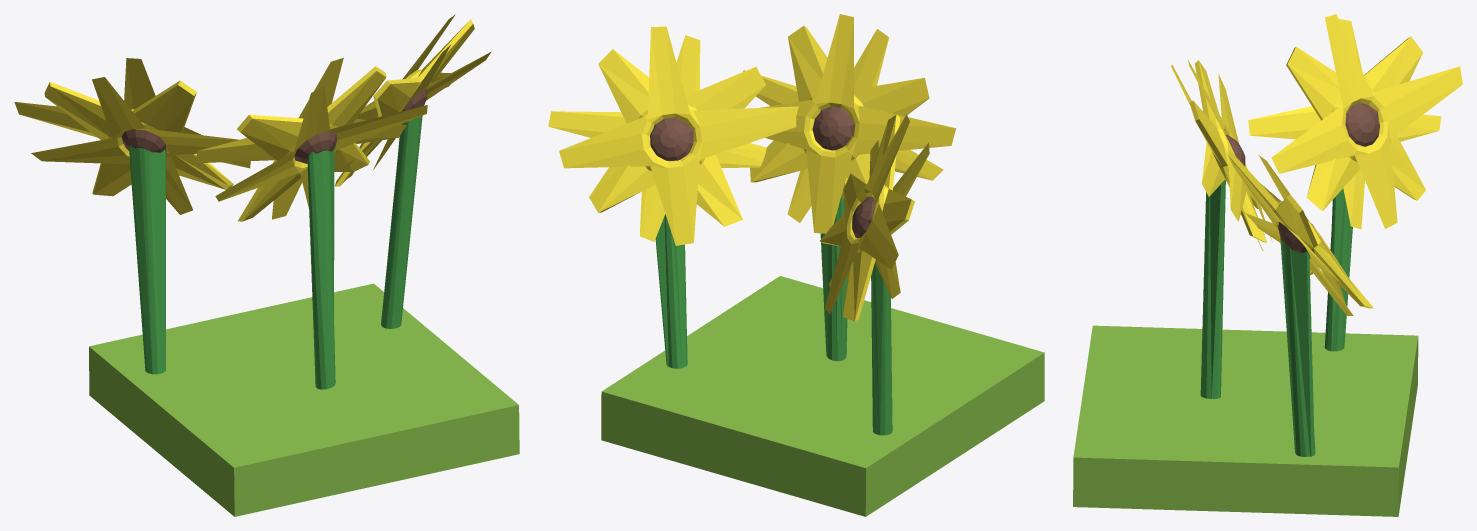
3 views of the same model, side by side, from view 1: azimuth 30°, elevation 25°; view 2: azimuth 150°, elevation 25°; view 3: azimuth 270°, elevation 25° (orthographic).
Parts seen in each view (by area): view 1: mesh_1537693769, mesh_1120229961, mesh_1989264385, mesh_1776900210, mesh_1143046408, mesh_863921316, mesh_2091806476, mesh_1805874679, mesh_1023204255; view 2: mesh_1537693769, mesh_2091806476, mesh_1989264385, mesh_1120229961, mesh_863921316, mesh_1776900210, mesh_1143046408, mesh_420803633, mesh_1023204255, mesh_1805874679; view 3: mesh_1537693769, mesh_1120229961, mesh_863921316, mesh_1989264385, mesh_2091806476, mesh_1143046408, mesh_1776900210, mesh_1805874679.
Boxes of the visible parts, left/top/right/bottom form: mesh_1537693769: left=89, top=283, right=519, bottom=516; mesh_1120229961: left=14, top=58, right=250, bottom=214; mesh_1989264385: left=195, top=57, right=427, bottom=221; mesh_1776900210: left=129, top=145, right=165, bottom=374; mesh_1143046408: left=307, top=148, right=335, bottom=389; mesh_863921316: left=381, top=115, right=422, bottom=328; mesh_2091806476: left=335, top=14, right=491, bottom=186; mesh_1805874679: left=121, top=129, right=166, bottom=152; mesh_1023204255: left=294, top=131, right=337, bottom=163; mesh_1537693769: left=601, top=276, right=1044, bottom=516; mesh_2091806476: left=548, top=26, right=798, bottom=245; mesh_1989264385: left=743, top=14, right=956, bottom=233; mesh_1120229961: left=820, top=114, right=929, bottom=321; mesh_863921316: left=655, top=214, right=687, bottom=368; mesh_1776900210: left=871, top=263, right=892, bottom=435; mesh_1143046408: left=820, top=196, right=847, bottom=361; mesh_420803633: left=650, top=117, right=693, bottom=160; mesh_1023204255: left=812, top=106, right=854, bottom=150; mesh_1805874679: left=852, top=196, right=874, bottom=238; mesh_1537693769: left=1073, top=325, right=1418, bottom=516; mesh_1120229961: left=1248, top=14, right=1462, bottom=229; mesh_863921316: left=1280, top=238, right=1315, bottom=456; mesh_1989264385: left=1171, top=60, right=1272, bottom=250; mesh_2091806476: left=1228, top=150, right=1373, bottom=315; mesh_1143046408: left=1200, top=179, right=1225, bottom=398; mesh_1776900210: left=1324, top=188, right=1352, bottom=351; mesh_1805874679: left=1345, top=102, right=1379, bottom=146.
Bounding box in the file's own units: 70.42 × 63.06 × 57.38.
